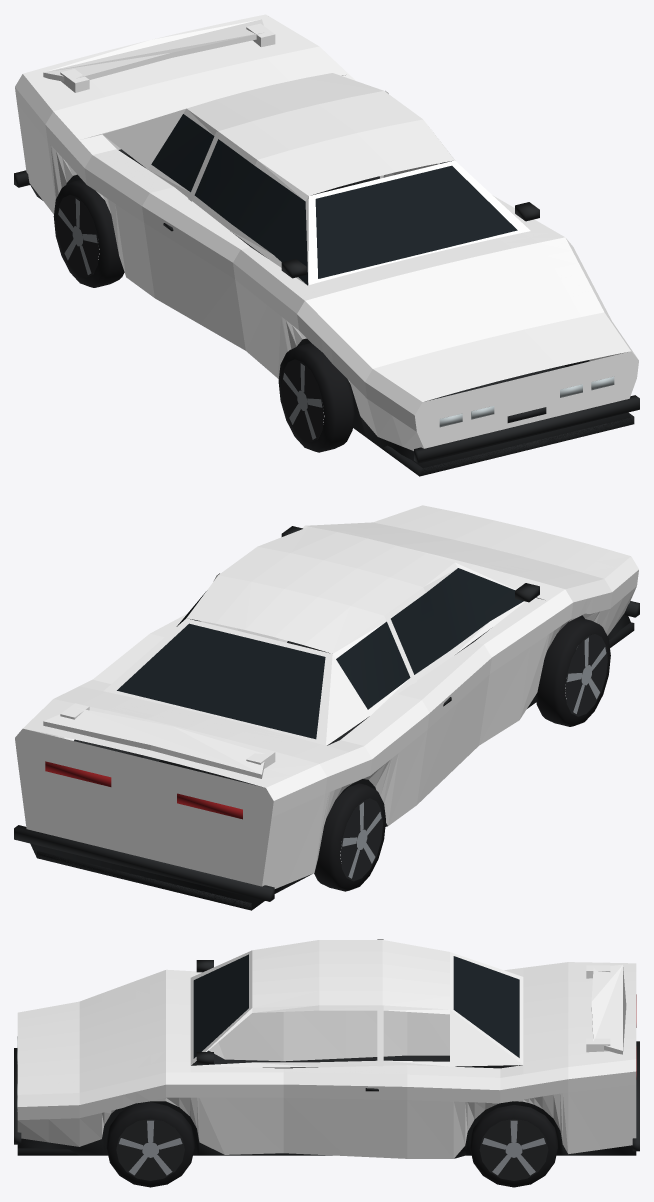
Rendered from hayase_granito.glb.
3 views of the same model, one above another, from view 1: azimuth 30°, elevation 25°; view 2: azimuth 150°, elevation 25°; view 3: azimuth 270°, elevation 25° (orthographic). The views are drawn at different scales.
Parts seen in each view (by area): view 1: Body_Paint, Body_Details, Mount_FrontLeft_Wheel_Details, Mount_RearLeft_Wheel_Details; view 2: Body_Paint, Body_Details, Mount_FrontLeft_Wheel_Details, Mount_RearLeft_Wheel_Details; view 3: Body_Paint, Body_Details, Mount_FrontRight_Wheel_Details, Mount_RearRight_Wheel_Details.
Part boxes in pixels (x1=…): Body_Paint: x1=15, y1=14, x2=638, y2=450; Body_Details: x1=14, y1=114, x2=639, y2=476; Mount_FrontLeft_Wheel_Details: x1=278, y1=343, x2=354, y2=452; Mount_RearLeft_Wheel_Details: x1=53, y1=179, x2=124, y2=287; Body_Paint: x1=15, y1=505, x2=638, y2=888; Body_Details: x1=14, y1=526, x2=639, y2=910; Mount_FrontLeft_Wheel_Details: x1=535, y1=617, x2=610, y2=726; Mount_RearLeft_Wheel_Details: x1=314, y1=783, x2=385, y2=891; Body_Paint: x1=17, y1=939, x2=636, y2=1158; Body_Details: x1=14, y1=954, x2=639, y2=1158; Mount_FrontRight_Wheel_Details: x1=106, y1=1102, x2=194, y2=1187; Mount_RearRight_Wheel_Details: x1=470, y1=1105, x2=557, y2=1187.
Size of the model in its own units: 2.01 by 1.35 by 4.68.
2 materials, 1 textured.
